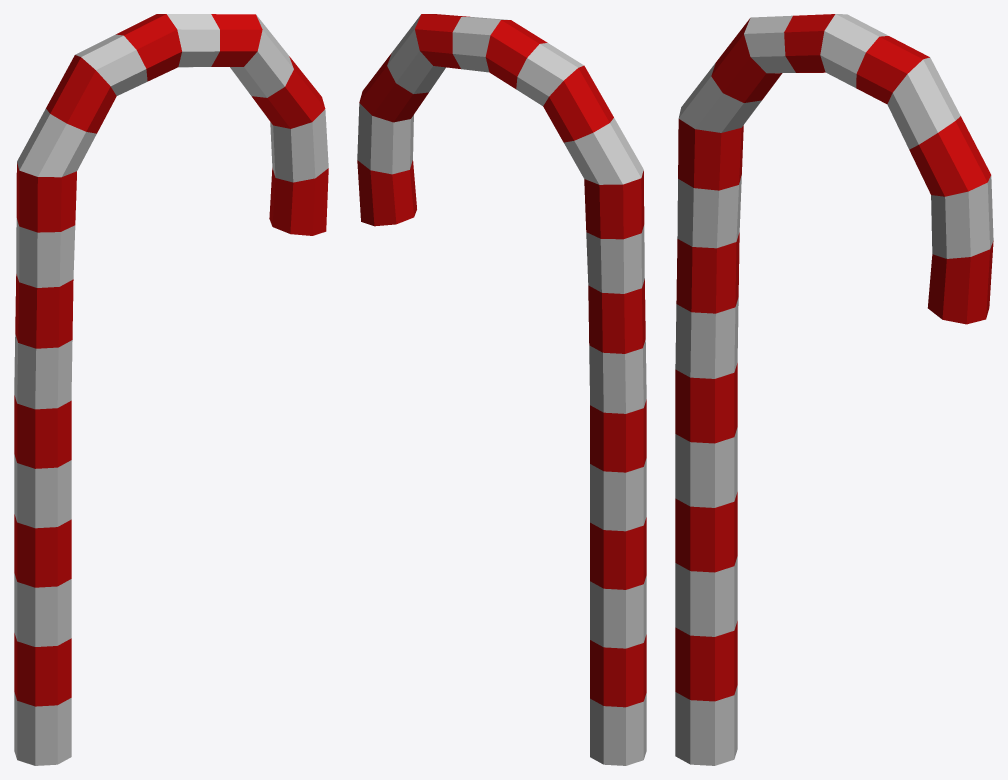
Rendered from CandyCane.obj.
3 views of the same model, side by side, from view 1: azimuth 30°, elevation 25°; view 2: azimuth 150°, elevation 25°; view 3: azimuth 330°, elevation 25° (orthographic). The views are drawn at different scales.
Parts seen in each view (by area): view 1: Cylinder_Cylinder_Red, Cylinder_Cylinder_White; view 2: Cylinder_Cylinder_Red, Cylinder_Cylinder_White; view 3: Cylinder_Cylinder_Red, Cylinder_Cylinder_White.
Part boxes in pixels (bbox=[...]): Cylinder_Cylinder_Red: bbox=[14, 14, 328, 706]; Cylinder_Cylinder_White: bbox=[14, 14, 328, 765]; Cylinder_Cylinder_Red: bbox=[357, 14, 646, 707]; Cylinder_Cylinder_White: bbox=[357, 15, 646, 765]; Cylinder_Cylinder_Red: bbox=[675, 14, 993, 701]; Cylinder_Cylinder_White: bbox=[675, 14, 993, 765].
Bounding box in the file's own units: 3.64 × 8.32 × 0.8937.
